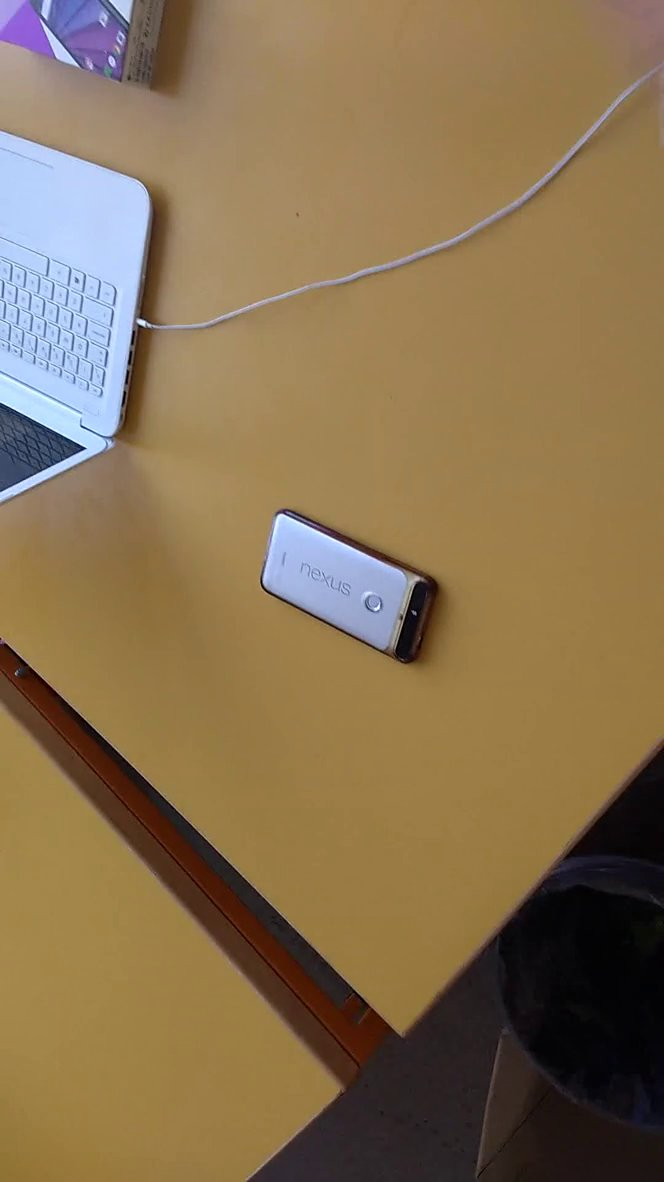phone: (244, 491, 463, 674)
